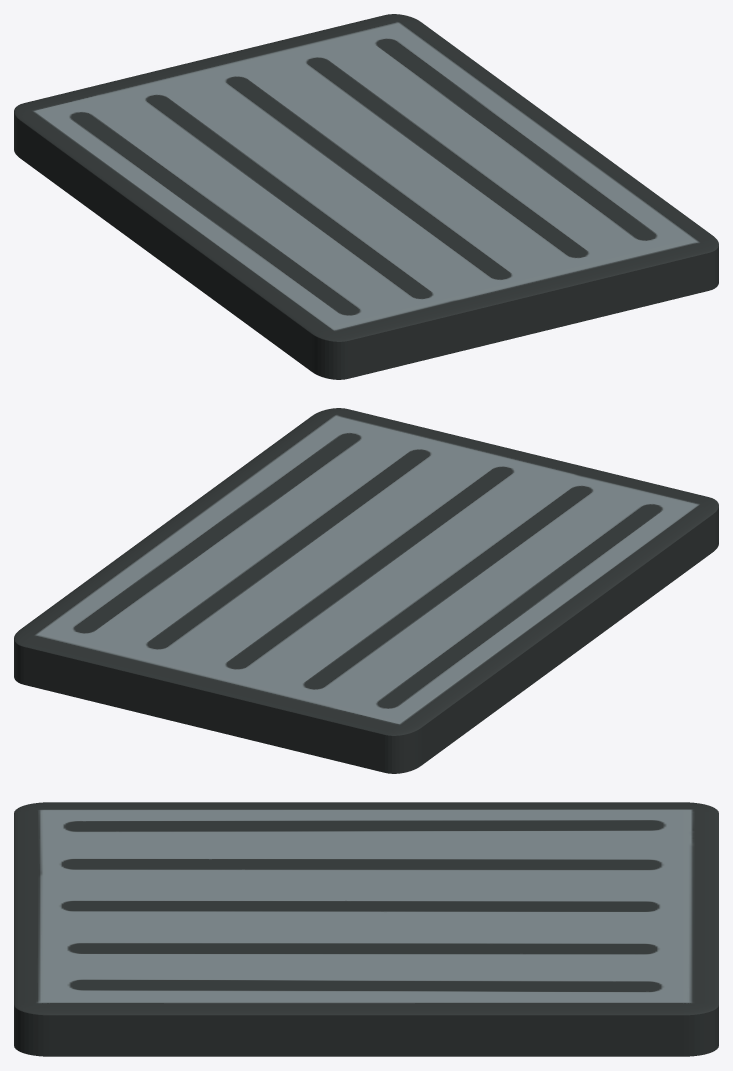
Rendered from Object-trapdoorblend.glb.
3 renders of one model, top to bottom at view 1: azimuth 30°, elevation 25°; view 2: azimuth 150°, elevation 25°; view 3: azimuth 270°, elevation 25°, orthographic. The views are drawn at different scales.
Parts seen in each view (by area): view 1: Cube; view 2: Cube; view 3: Cube.
Boxes of the visible parts, x1=… form: Cube: x1=14, y1=14, x2=718, y2=379; Cube: x1=14, y1=408, x2=718, y2=773; Cube: x1=14, y1=802, x2=718, y2=1056.
Bounding box in the file's own units: 2 × 0.2 × 2.8.
1 material, 1 textured.
